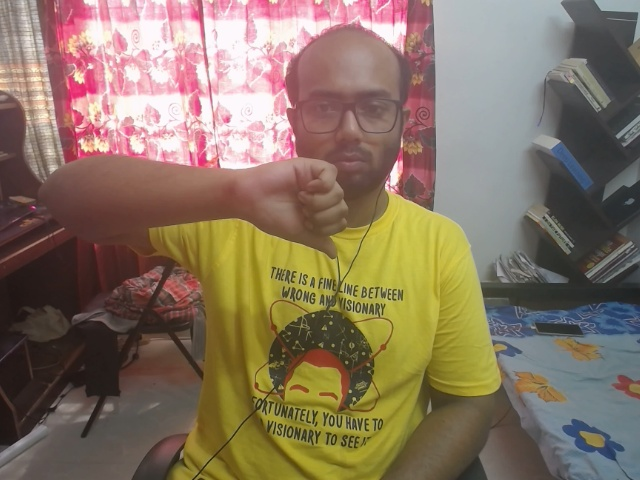nine: (217, 134, 398, 311)
